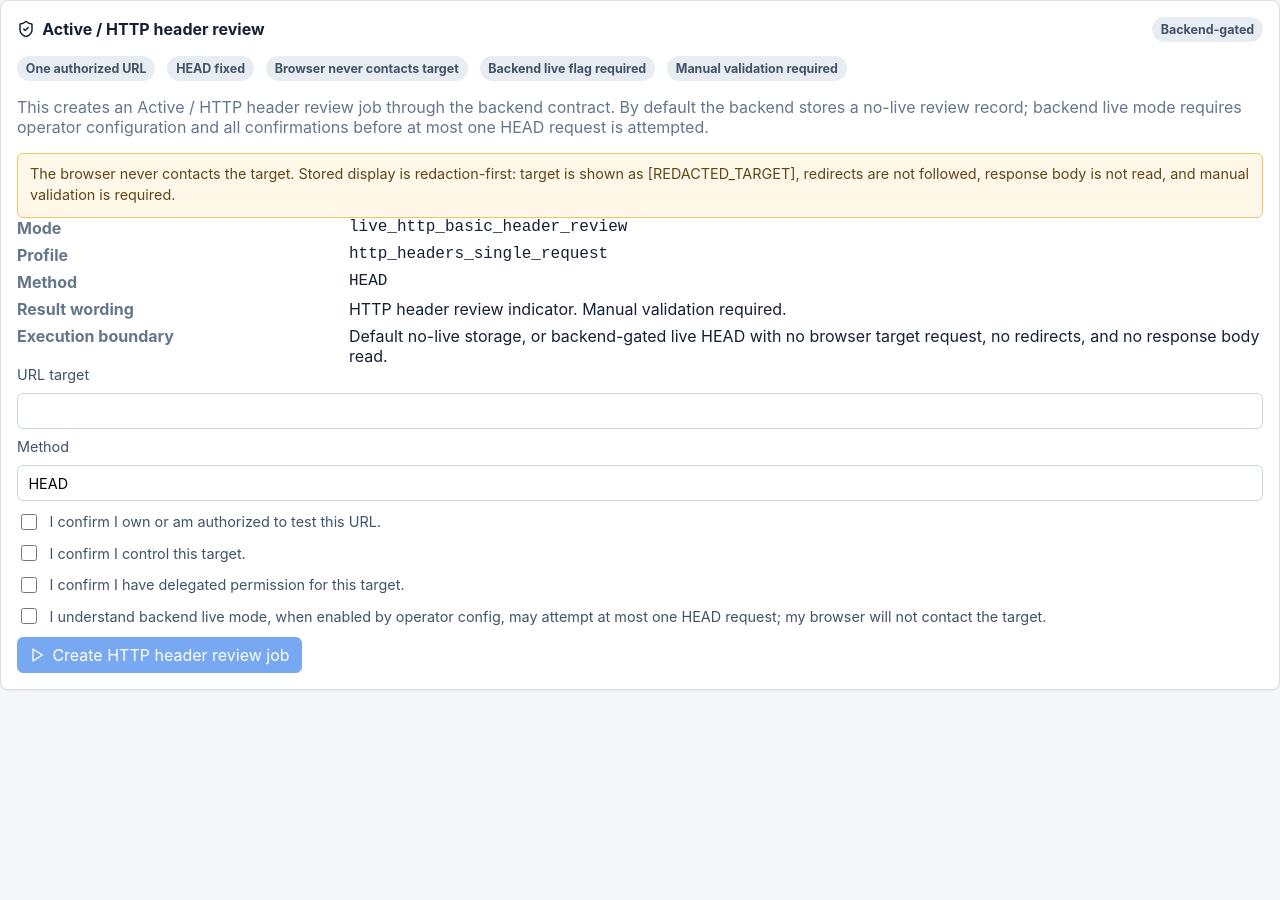
Test: ActiveHttpBasicHeaderReviewPanel › handles a controlled non-job response without reflecting the target
In the field labelled "URL target": (640, 411) x1=17 y1=393 x2=1263 y2=429, type "https://authorized.example/"
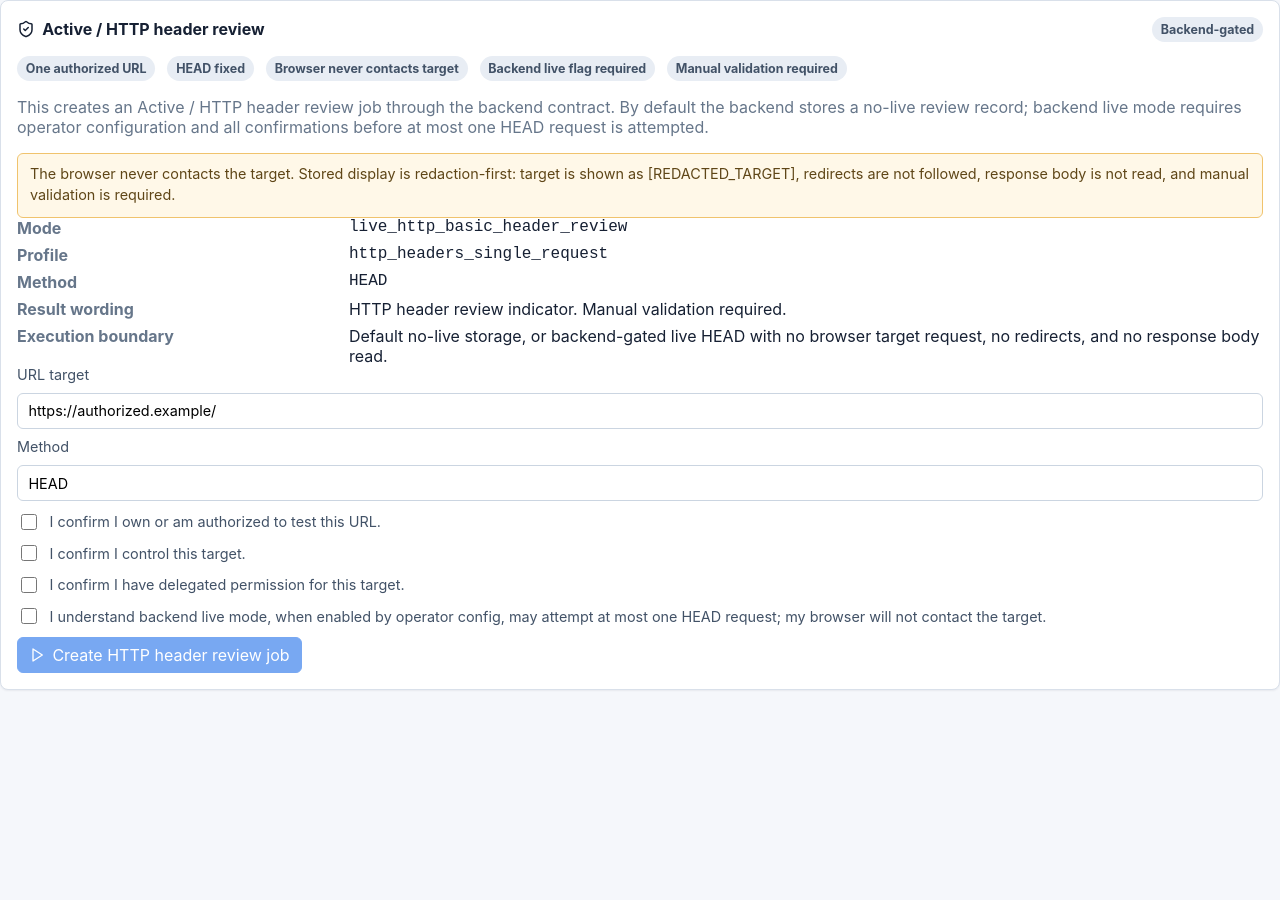
Click the checkbox labelled "I confirm I own or am authorized to test this URL.": (29, 522) x1=21 y1=514 x2=37 y2=530
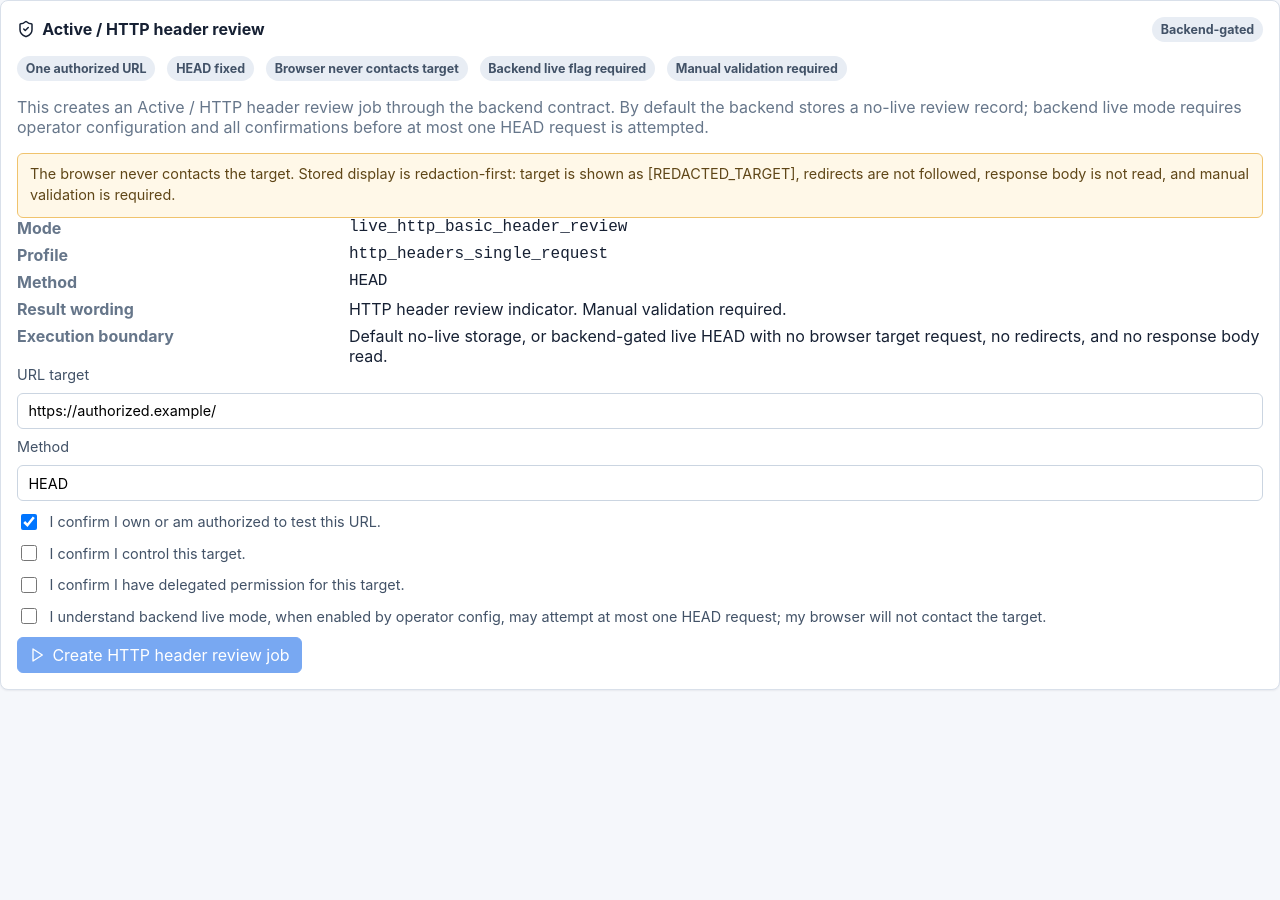
Click the checkbox labelled "I confirm I control this target.": (29, 553) x1=21 y1=545 x2=37 y2=561
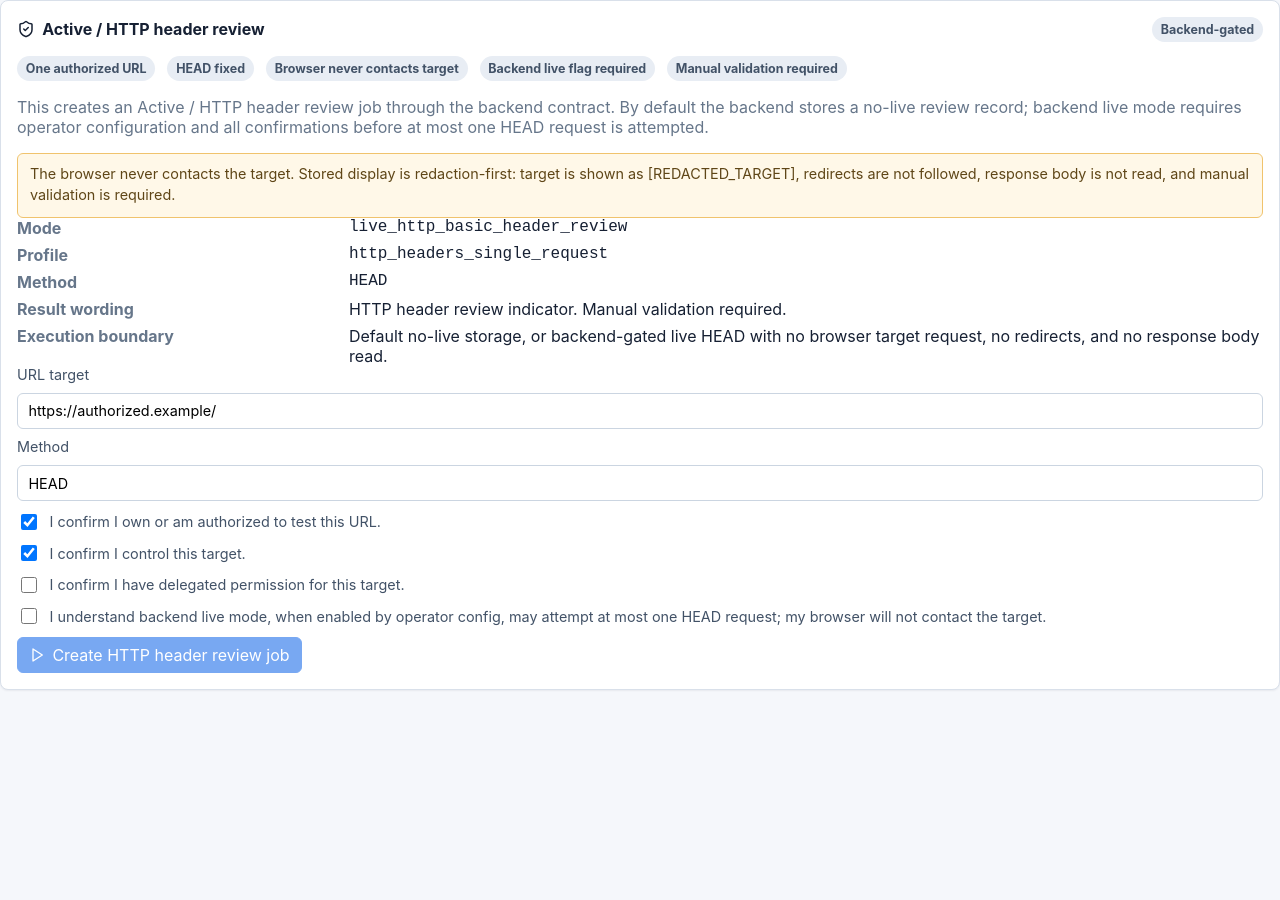
Click the checkbox named "I understand backend live mode, when enabled by operator config, may attempt at most one HEAD request; my browser will n": (29, 616) x1=21 y1=608 x2=37 y2=624
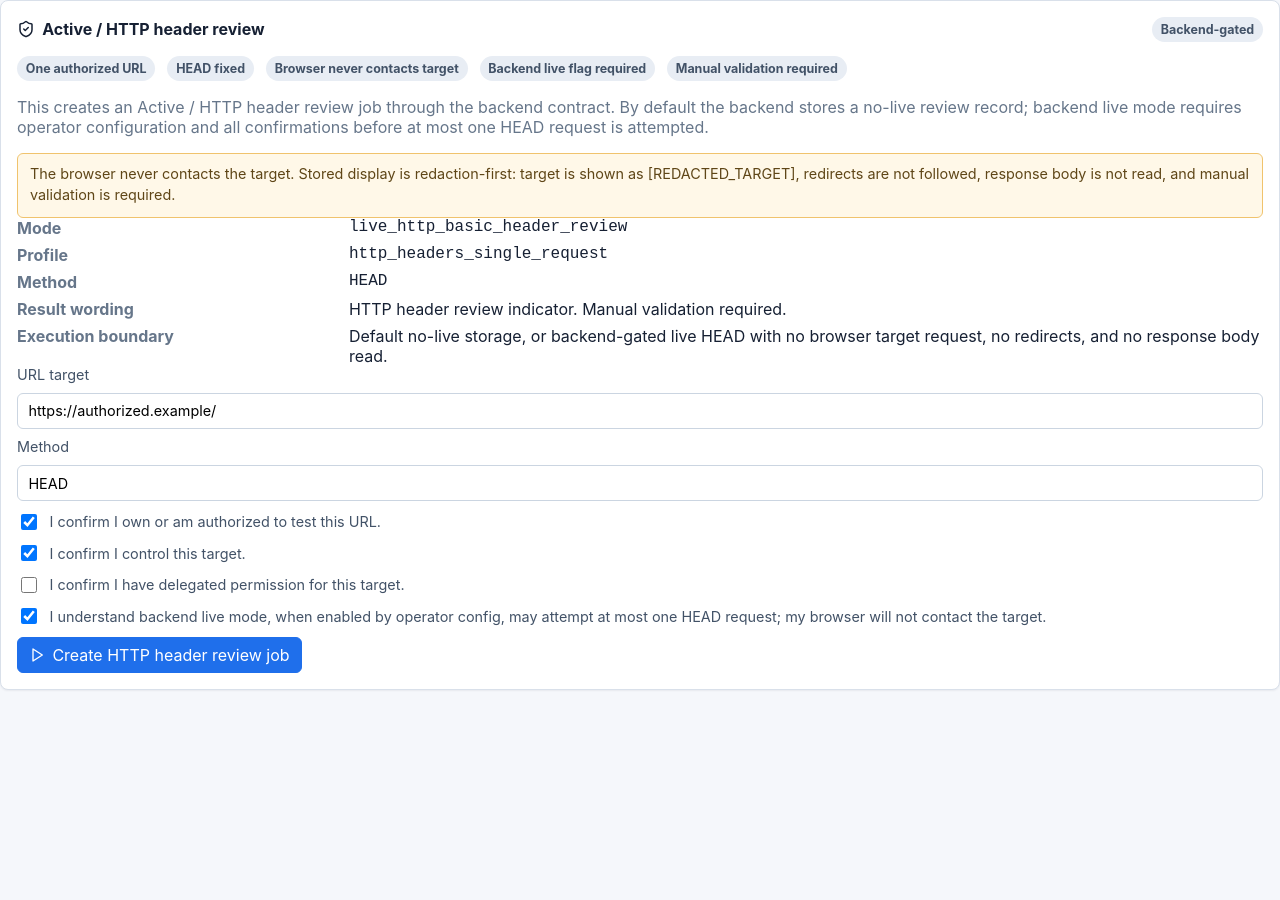
Click the button "Create HTTP header review job": (159, 655) x1=17 y1=637 x2=302 y2=673
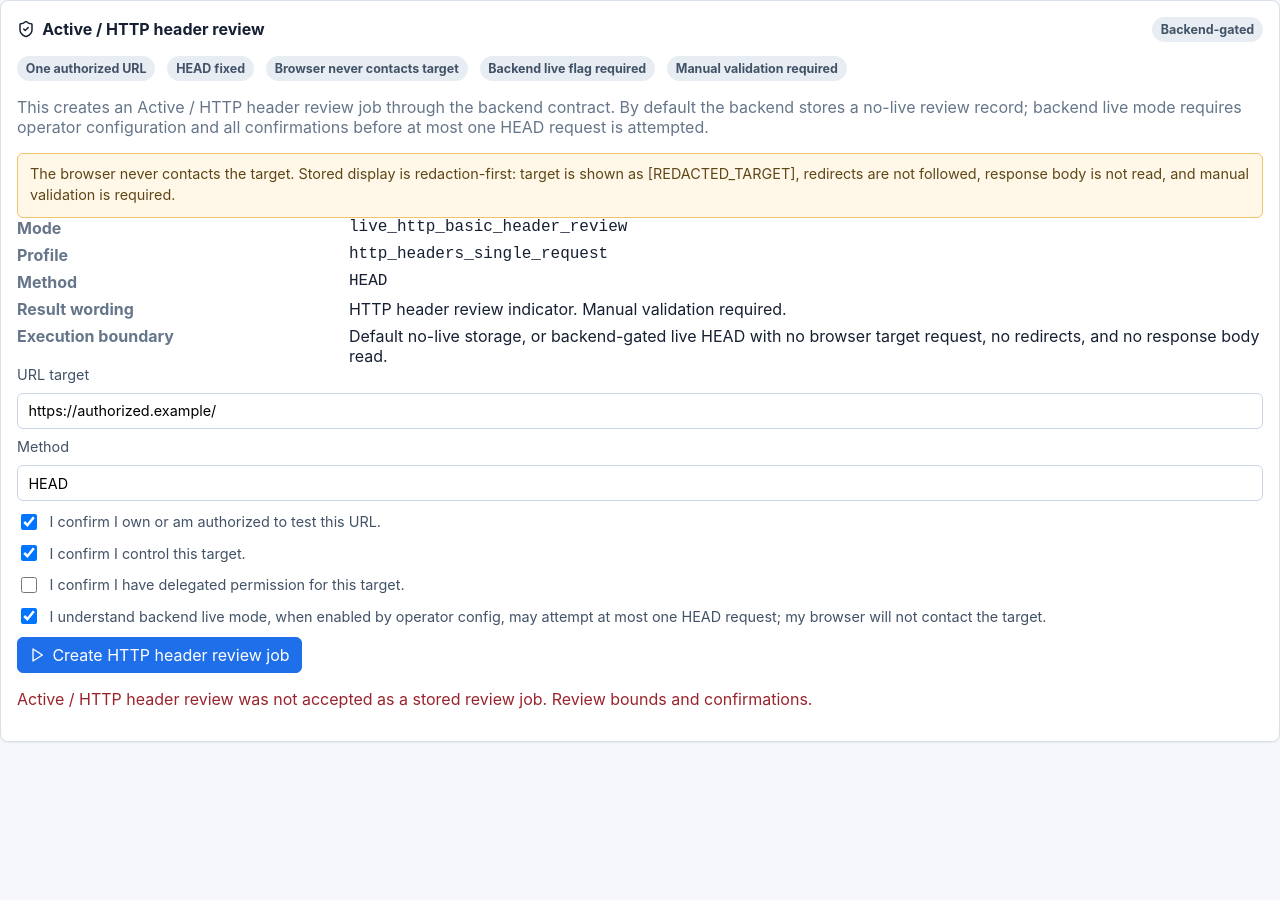
Expected: the text "authorized.example" is not shown
Now the text "Active / HTTP header review was not accepted as a stored review job. Review bounds and confirmations." is shown, box x1=17 y1=689 x2=812 y2=709
